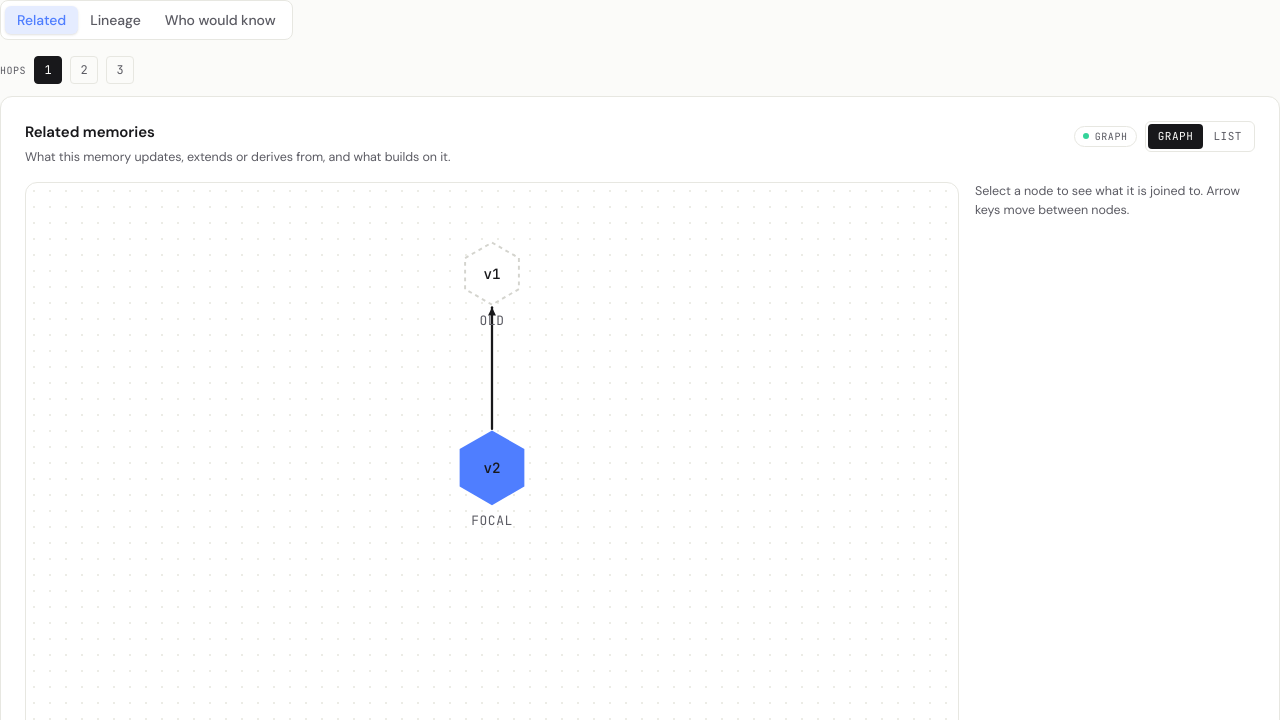
MemoryConnections › the who-would-know tab ranks people and explains the hop
The width and height of the screenshot is (1280, 720).
Press the mouse on the tab with test id "tab-owners": (220, 20) [153, 6, 288, 34]
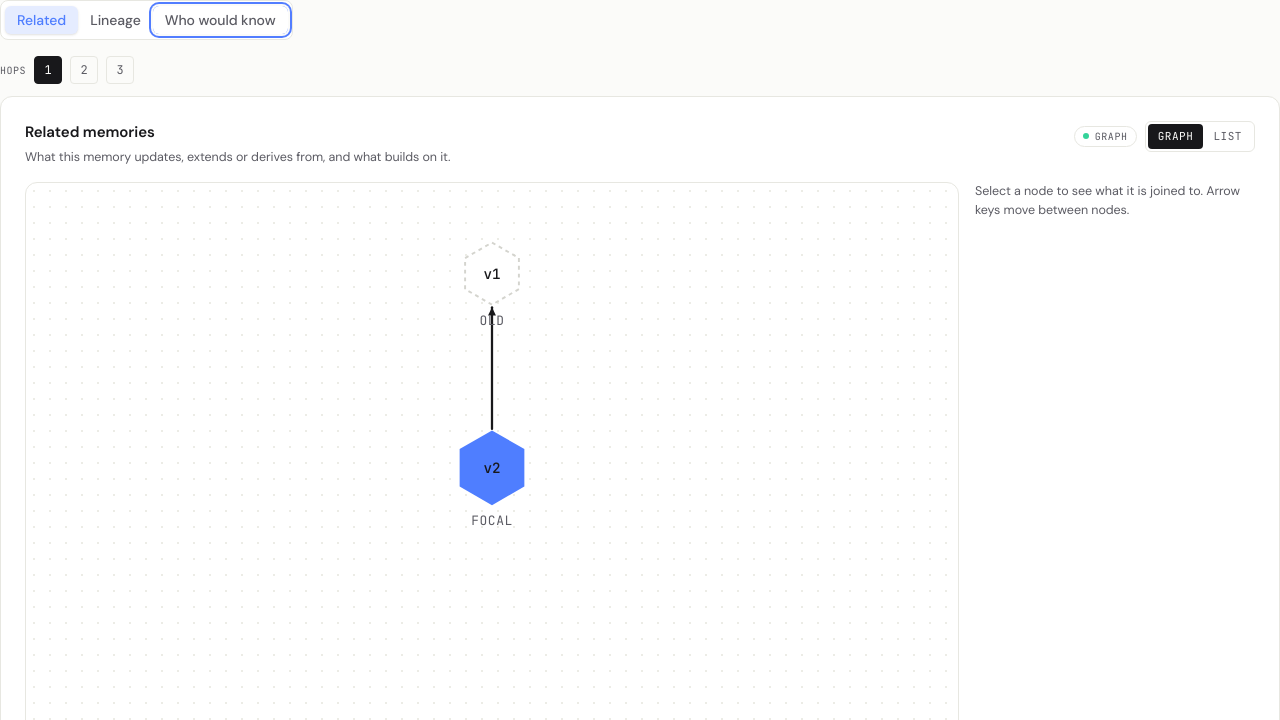
Focus the tab with test id "tab-owners": (220, 20) [153, 6, 288, 34]
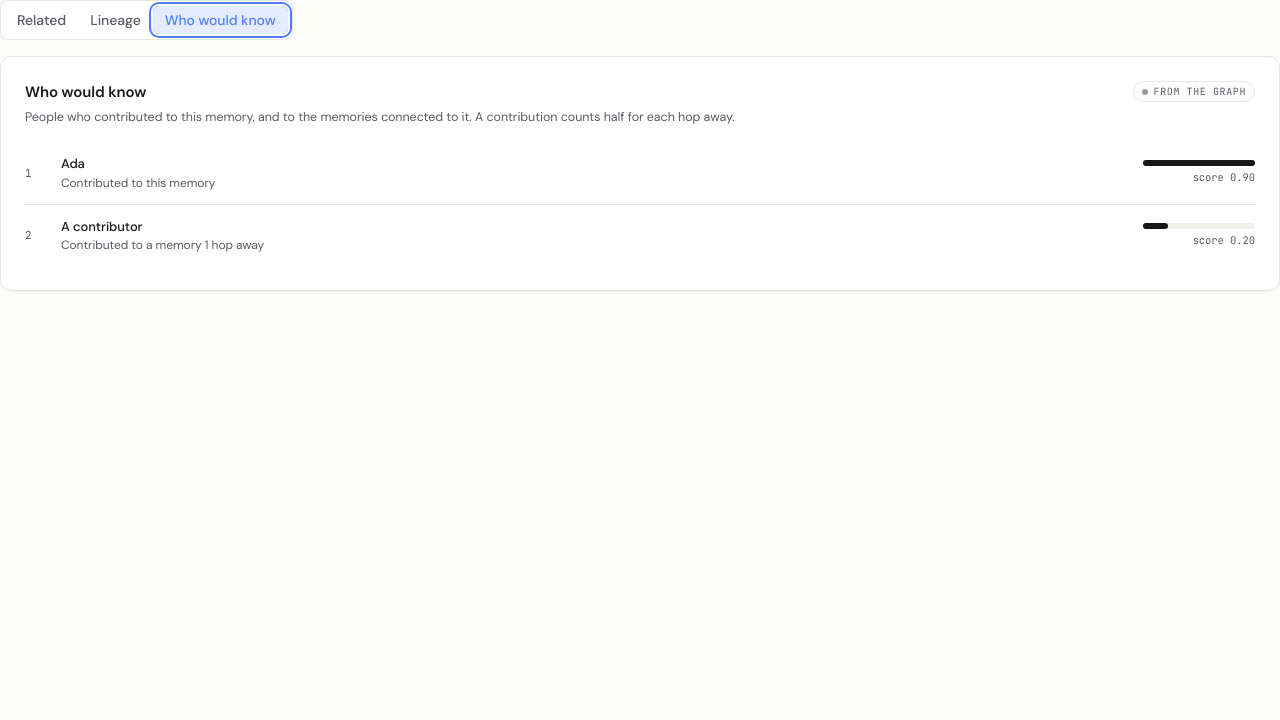
Expected: the list item with test id "owner-1" shows "Ada", [61, 155, 85, 172]
Expected: the list item with test id "owner-1" shows "Contributed to this memory", [61, 175, 215, 191]
Expected: the list item with test id "owner-2" shows "A contributor", [61, 218, 142, 235]
